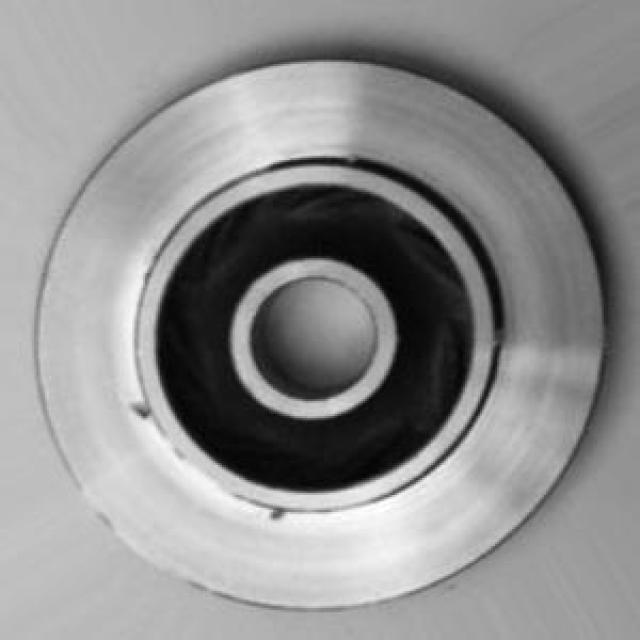Defect: (126, 394, 154, 427)
